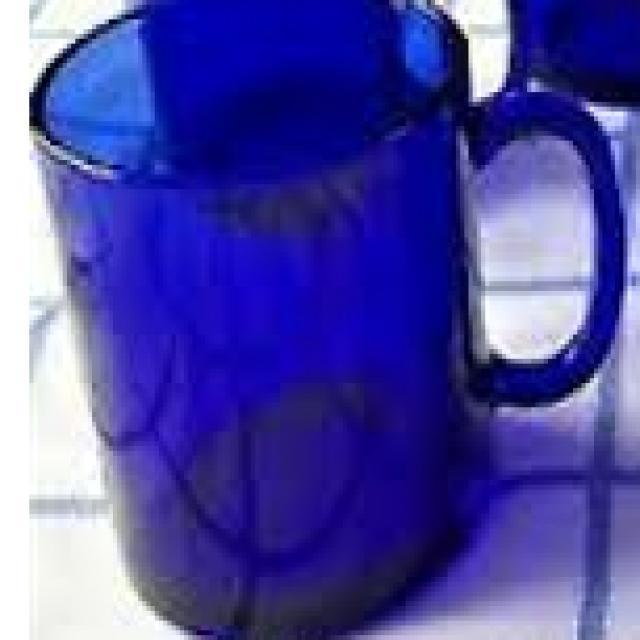taza: (26, 0, 626, 640)
